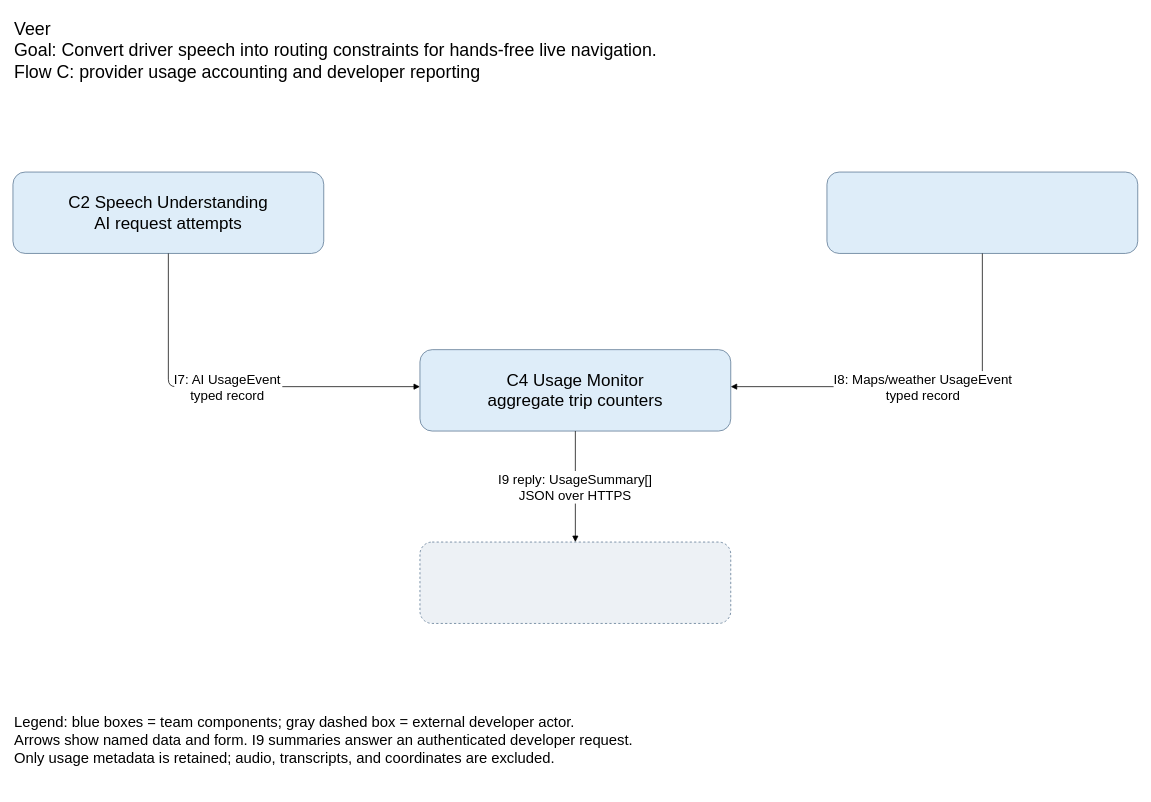
Some shapes in this 1151 by 802 pixel diagram are drawn without their labels. The centre of each missing label's shape, as x and y in pixels:
C3 Route Planning Maps/weather attempts: point 982,212
Developer inspect per-trip usage: point 575,582
